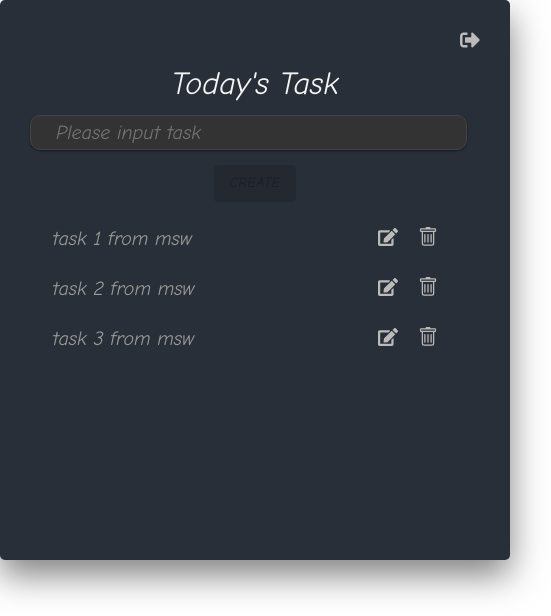
Test: タスクメイン画面 › タスク一覧の編集ボタンクリック時 › テキストボックスにタスク名がセットされること
Expected: the text "task 3 from msw" is shown, x1=52 y1=326 x2=194 y2=350
Click the 1st button with test id "edit-btn": click(388, 239) x1=378 y1=226 x2=398 y2=252
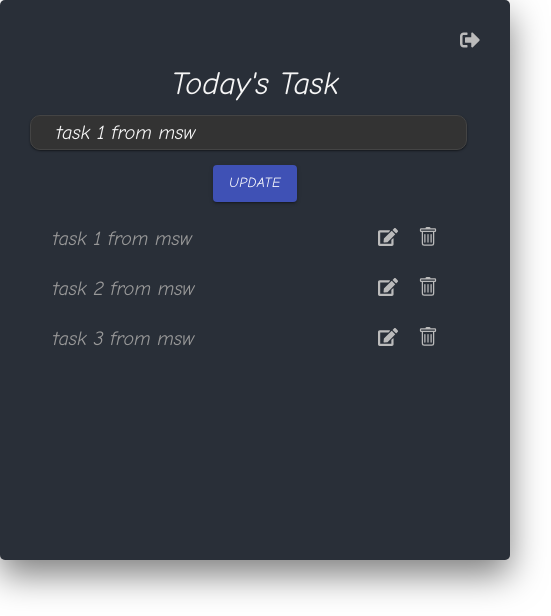
Expected: the field with test id "task-input" holds "task 1 from msw", x1=30 y1=115 x2=467 y2=150
